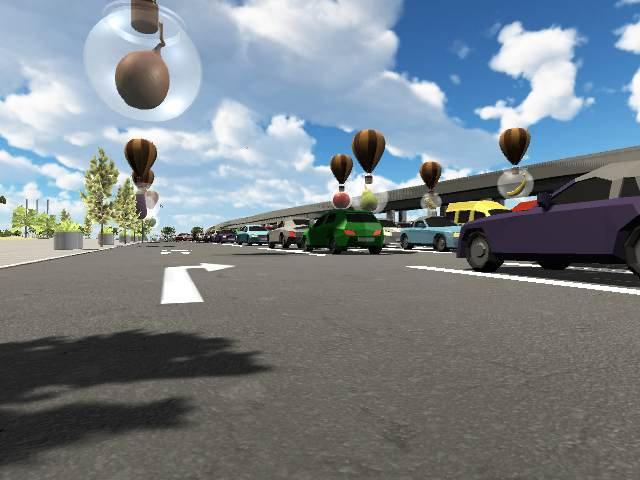ground_right: (159, 259, 235, 272)
